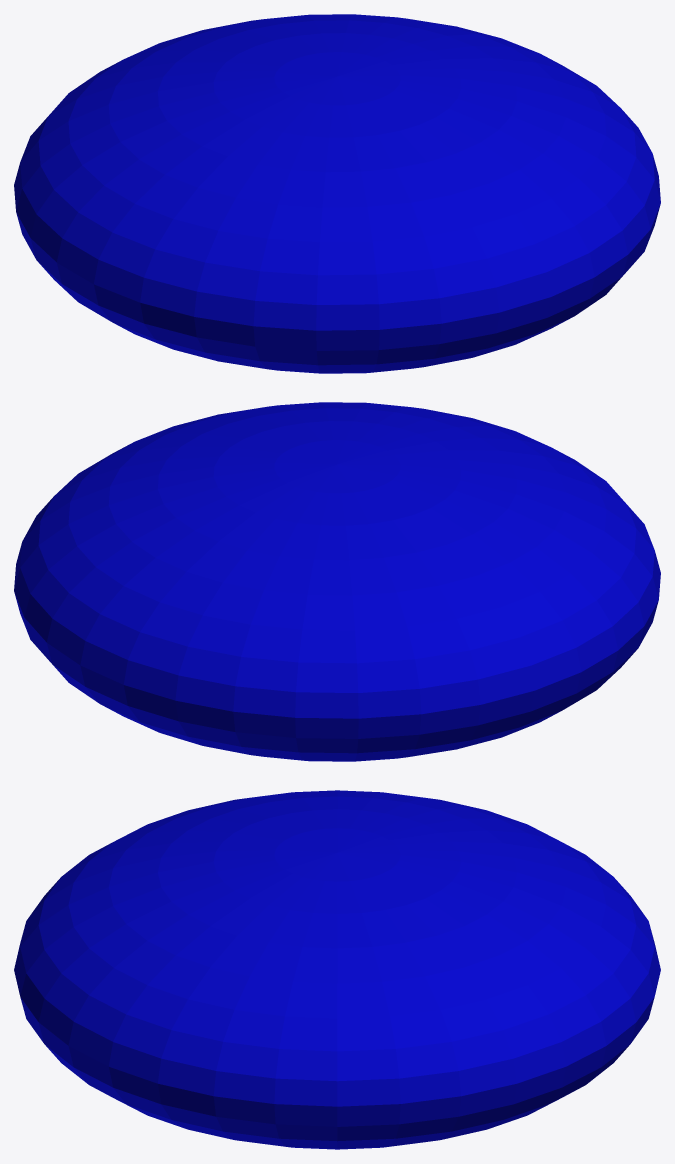
Rendered from switchBlue.obj.
The picture shows the model from 3 angles, top to bottom: view 1: azimuth 30°, elevation 25°; view 2: azimuth 150°, elevation 25°; view 3: azimuth 270°, elevation 25°; orthographic projection.
Visible parts, largest first — view 1: 球; view 2: 球; view 3: 球.
Boxes of the visible parts, x1,y1,x2,y2 form: 球: (14,14,660,373); 球: (14,402,660,761); 球: (14,790,660,1149).
Bounding box in the file's own units: 1.27 × 0.5069 × 1.27.
